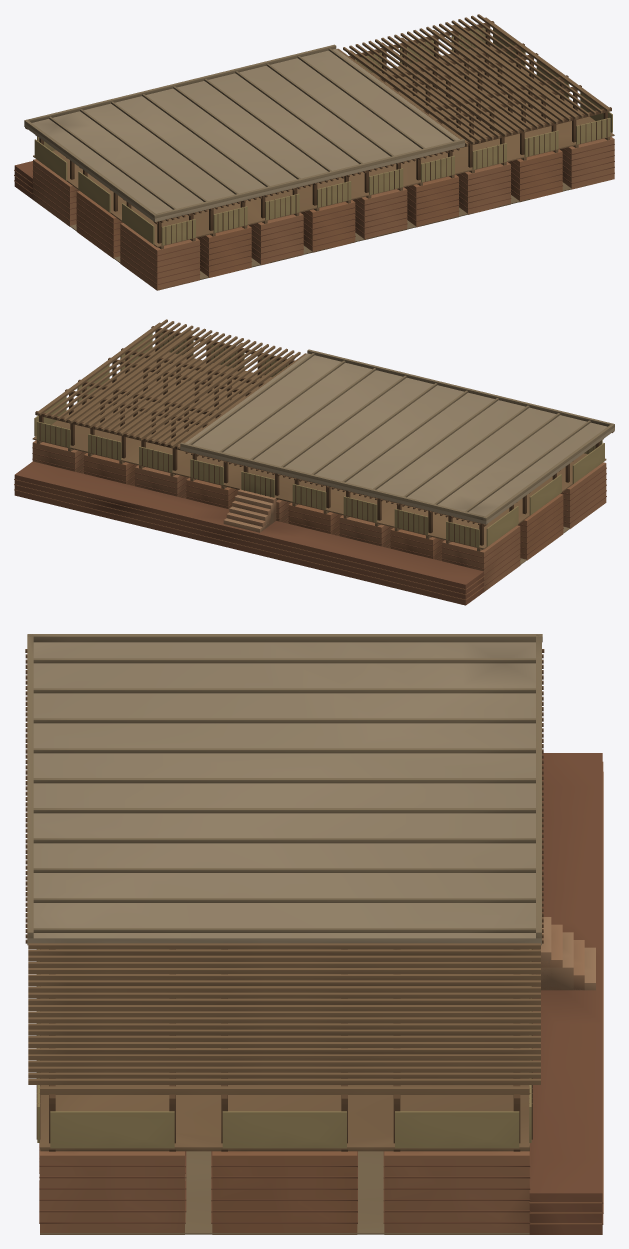
Rendered from great-hall.glb.
3 renders of one model, top to bottom at view 1: azimuth 30°, elevation 25°; view 2: azimuth 150°, elevation 25°; view 3: azimuth 270°, elevation 25°, orthographic. The views are drawn at different scales.
Parts seen in each view (by area): view 1: p2_roof, p0_brick podium, p1_timber frame; view 2: p2_roof, p0_brick podium, p1_timber frame; view 3: p2_roof, p0_brick podium, p1_timber frame.
Boxes of the visible parts, left/top/right/bottom form: p2_roof: left=24, top=14, right=609, bottom=224; p0_brick podium: left=14, top=136, right=614, bottom=290; p1_timber frame: left=33, top=17, right=614, bottom=249; p2_roof: left=38, top=319, right=614, bottom=526; p0_brick podium: left=14, top=440, right=606, bottom=605; p1_timber frame: left=32, top=322, right=606, bottom=551; p2_roof: left=25, top=634, right=544, bottom=1084; p0_brick podium: left=39, top=753, right=603, bottom=1234; p1_timber frame: left=36, top=917, right=595, bottom=1151.
Bounding box in the file's own units: 50.72 × 8.22 × 27.76.
